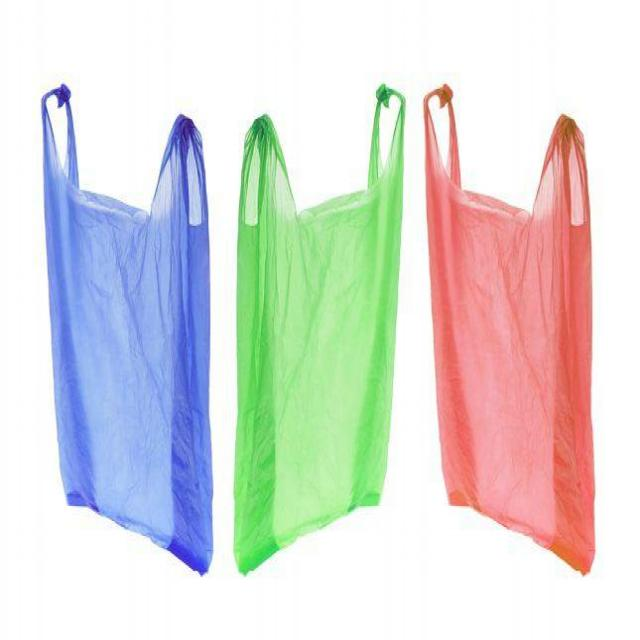plastic_bag: (418, 75, 611, 587), (30, 78, 224, 584), (228, 75, 414, 584)
